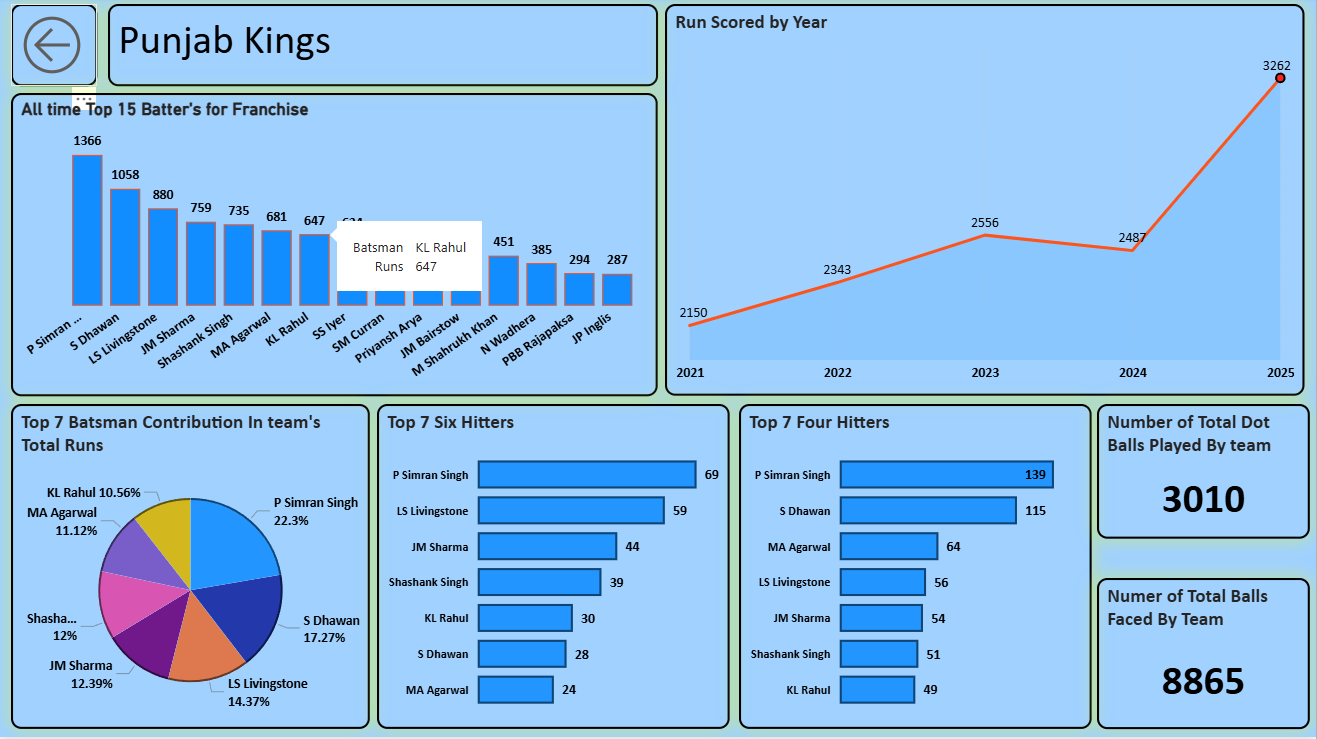

This screenshot's page, from the dashboard's own definition file:
{"tool":"powerbi","page":{"name":"Team Batting","canvas":[1280,720],"ordinal":1},"visuals":[{"type":"actionButton","box":[10.7,6.8,83.6,79.8],"z":1},{"type":"multiRowCard","title":"TEAM SELECTED","fields":{"Values":["ipl_sorted_deliveries_data.batting_team"]},"box":[105,6.8,535,79.8],"z":2},{"type":"clusteredColumnChart","title":"All time Top 15 Batter''s for Franchise","fields":{"Category":["ipl_sorted_deliveries_data.batter"],"Y":["Sum(ipl_sorted_deliveries_data.total_runs)"]},"box":[10.7,93.4,629.3,294.7],"z":3},{"type":"stackedAreaChart","fields":{"Category":["ipl_sorted_deliveries_data.date.Variation.Date Hierarchy.Year"],"Y":["Sum(ipl_sorted_deliveries_data.total_runs)"]},"box":[646.8,6.8,622.5,381.3],"z":4},{"type":"pieChart","title":"Top 7 Batsman Contribution In team''s Total Runs","fields":{"Y":["Sum(ipl_sorted_deliveries_data.total_runs)"],"Category":["ipl_sorted_deliveries_data.batter"]},"box":[10.7,395.9,349.2,316.1],"z":5},{"type":"clusteredBarChart","title":"Top 7 Six Hitters","fields":{"Category":["ipl_sorted_deliveries_data.batter"],"Y":["ipl_sorted_deliveries_data.Total Sixes"]},"box":[366.7,395.9,343.3,316.1],"z":6},{"type":"clusteredBarChart","title":"Top 7 Four Hitters","fields":{"Category":["ipl_sorted_deliveries_data.batter"],"Y":["ipl_sorted_deliveries_data.Total Four"]},"box":[718.8,395.9,343.3,316.1],"z":7},{"type":"card","title":"Number of Total Dot Balls Played By team","fields":{"Values":["ipl_sorted_deliveries_data.Dot Playing Player"]},"box":[1067,395.9,207.2,131.3],"z":8},{"type":"card","title":"Numer of Total Balls Faced By Team","fields":{"Values":["Sum(ipl_sorted_deliveries_data.ball_faced)"]},"box":[1067,565.1,207.2,146.9],"z":9}]}

Visuals, with their boxes in screenshot pixels (x1, y1, x2, y2), scaled from the page's 1280x720 canvas onto the 1317x739 screenshot:
actionButton: 11, 7, 97, 89
"TEAM SELECTED" multiRowCard: 108, 7, 658, 89
"All time Top 15 Batter''s for Franchise" clusteredColumnChart: 11, 96, 658, 398
stackedAreaChart - ipl_sorted_deliveries_data.date.Variation.Date Hierarchy.Year x Sum(ipl_sorted_deliveries_data.total_runs): 665, 7, 1306, 398
"Top 7 Batsman Contribution In team''s Total Runs" pieChart: 11, 406, 370, 731
"Top 7 Six Hitters" clusteredBarChart: 377, 406, 731, 731
"Top 7 Four Hitters" clusteredBarChart: 740, 406, 1093, 731
"Number of Total Dot Balls Played By team" card: 1098, 406, 1311, 541
"Numer of Total Balls Faced By Team" card: 1098, 580, 1311, 731
